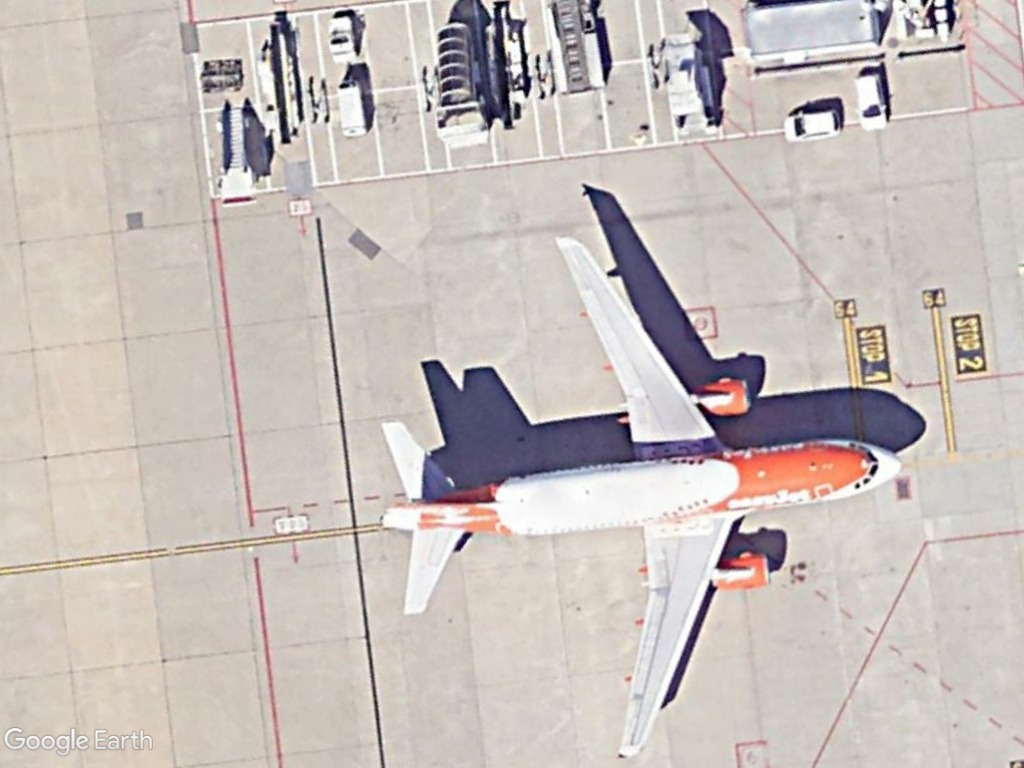airliner: (374, 234, 909, 761)
car: (778, 105, 848, 143), (855, 69, 892, 135)
stairtruck: (209, 99, 273, 209)
